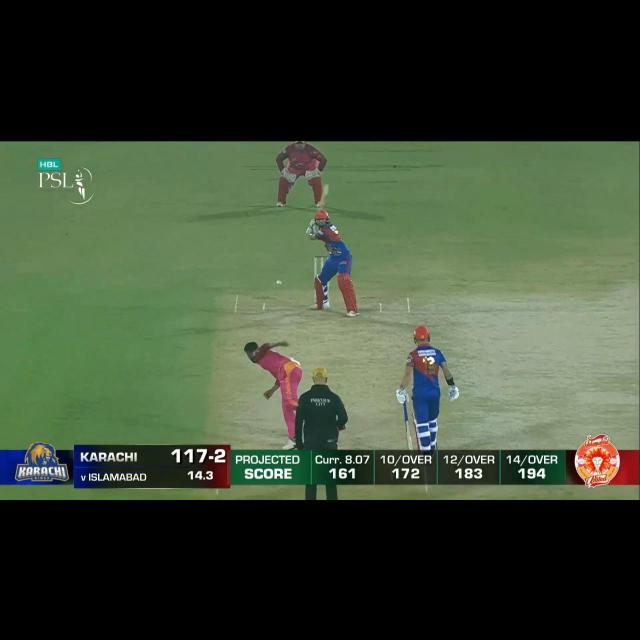bat: (315, 186, 328, 217), (403, 419, 413, 450)
toe: (322, 188, 329, 197)
